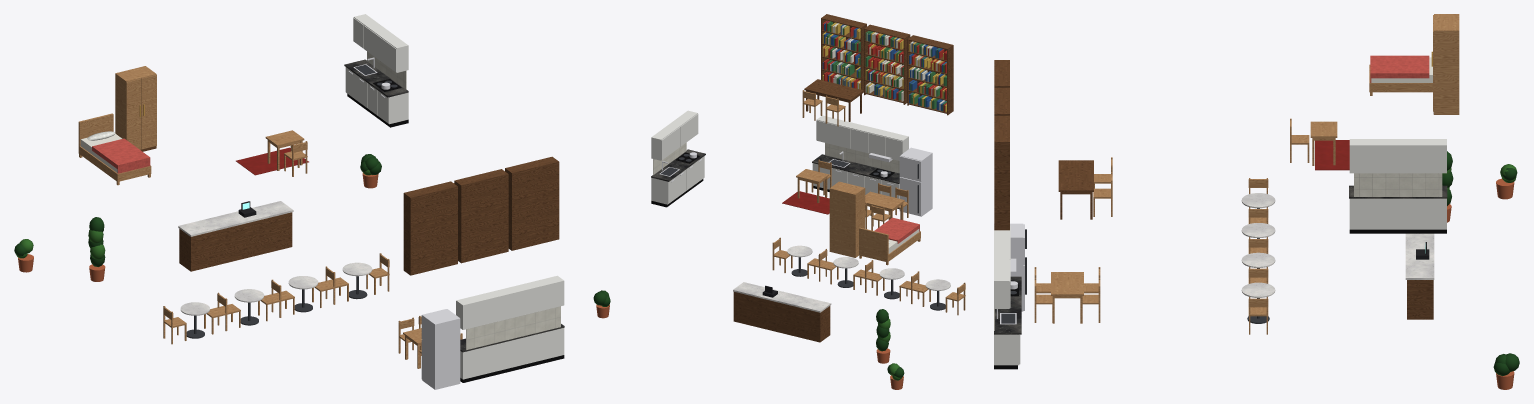
Rendered from i_brick_heritage_cafe.gltf.
3 views of the same model, side by side, from view 1: azimuth 30°, elevation 25°; view 2: azimuth 150°, elevation 25°; view 3: azimuth 270°, elevation 25° (orthographic). The views are drawn at different scales.
Parts seen in each view (by area): view 1: I_brick_heritage_cafe; view 2: I_brick_heritage_cafe; view 3: I_brick_heritage_cafe.
Boxes of the visible parts, bbox=[...] form: I_brick_heritage_cafe: bbox=[14, 14, 564, 389]; I_brick_heritage_cafe: bbox=[593, 14, 965, 389]; I_brick_heritage_cafe: bbox=[994, 14, 1519, 389].
Size of the model in its own units: 10.74 by 5.6 by 11.89.
25 materials, 9 textured.
